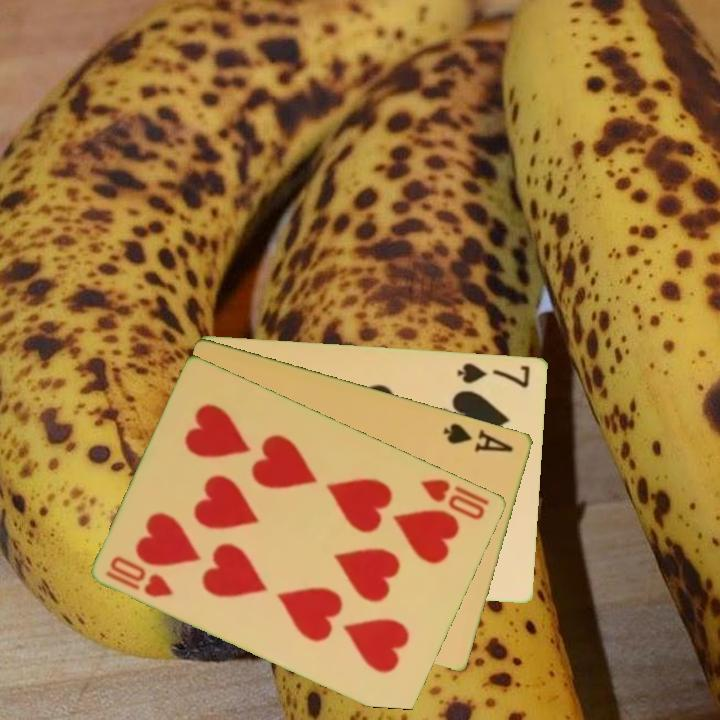10h: (417, 475, 493, 523), (103, 552, 176, 600)
7s: (454, 359, 533, 391)
As: (440, 419, 517, 455)
